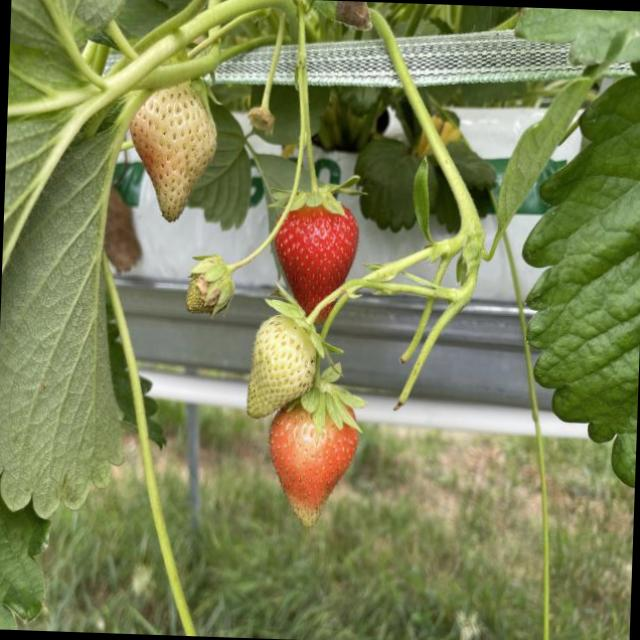strawberryNR: (130, 82, 215, 221)
strawberryR: (271, 407, 357, 527), (274, 207, 358, 315)
